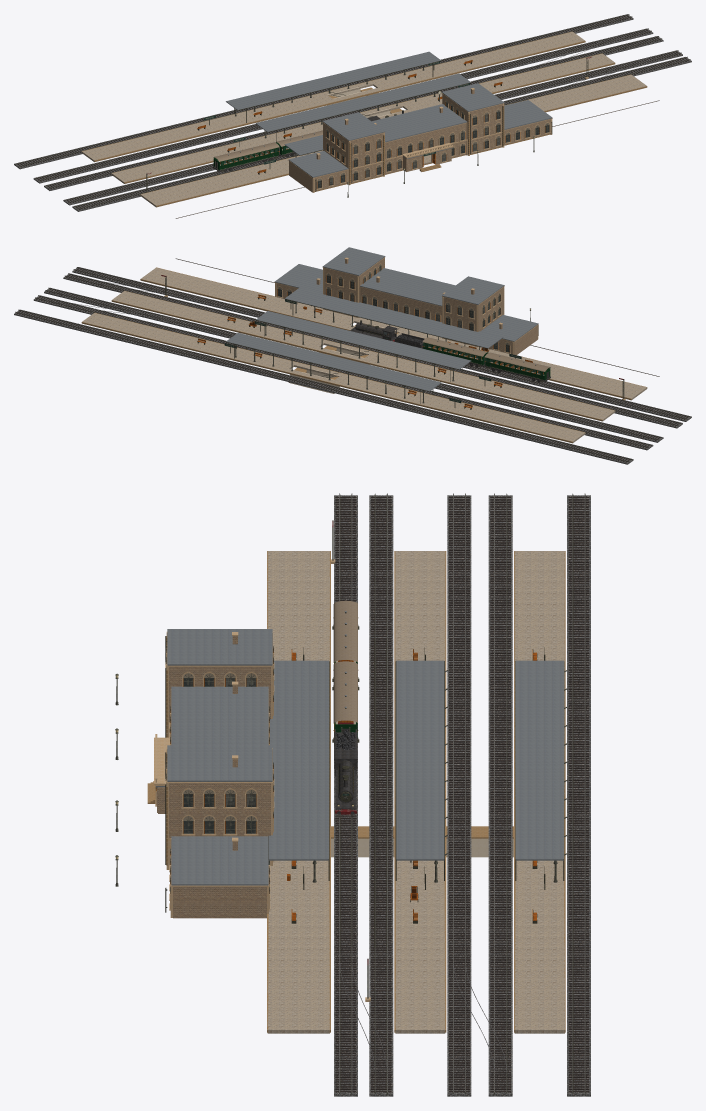
The model's file is hbf.glb.
The picture shows the model from 3 angles, top to bottom: view 1: azimuth 30°, elevation 25°; view 2: azimuth 150°, elevation 25°; view 3: azimuth 270°, elevation 25°; orthographic projection. The views are drawn at different scales.
Parts seen in each view (by area): view 1: Bahnsteige, Empfang, Gleise, Personenwagen_2, Personenwagen_1; view 2: Bahnsteige, Gleise, Empfang, Personenwagen_2, Personenwagen_1, Lok_38_3050; view 3: Bahnsteige, Gleise, Empfang, Personenwagen_1, Personenwagen_2, Lok_38_3050.
Boxes of the visible parts, bbox=[...] form: Bahnsteige: bbox=[81, 31, 647, 207]; Empfang: bbox=[175, 83, 659, 218]; Gleise: bbox=[14, 14, 691, 211]; Personenwagen_2: bbox=[213, 142, 279, 172]; Personenwagen_1: bbox=[275, 130, 322, 157]; Bahnsteige: bbox=[81, 267, 647, 443]; Gleise: bbox=[14, 267, 691, 464]; Empfang: bbox=[175, 247, 659, 376]; Personenwagen_2: bbox=[484, 352, 550, 382]; Personenwagen_1: bbox=[422, 337, 488, 367]; Lok_38_3050: bbox=[350, 320, 397, 341]; Bahnsteige: bbox=[267, 551, 567, 1033]; Gleise: bbox=[331, 493, 590, 1096]; Empfang: bbox=[147, 629, 274, 918]; Personenwagen_1: bbox=[332, 661, 359, 742]; Personenwagen_2: bbox=[332, 600, 359, 681]; Lok_38_3050: bbox=[334, 749, 357, 817].
Bounding box in the file's own units: 175 × 16.8 × 58.76.
37 materials, 34 textured.
